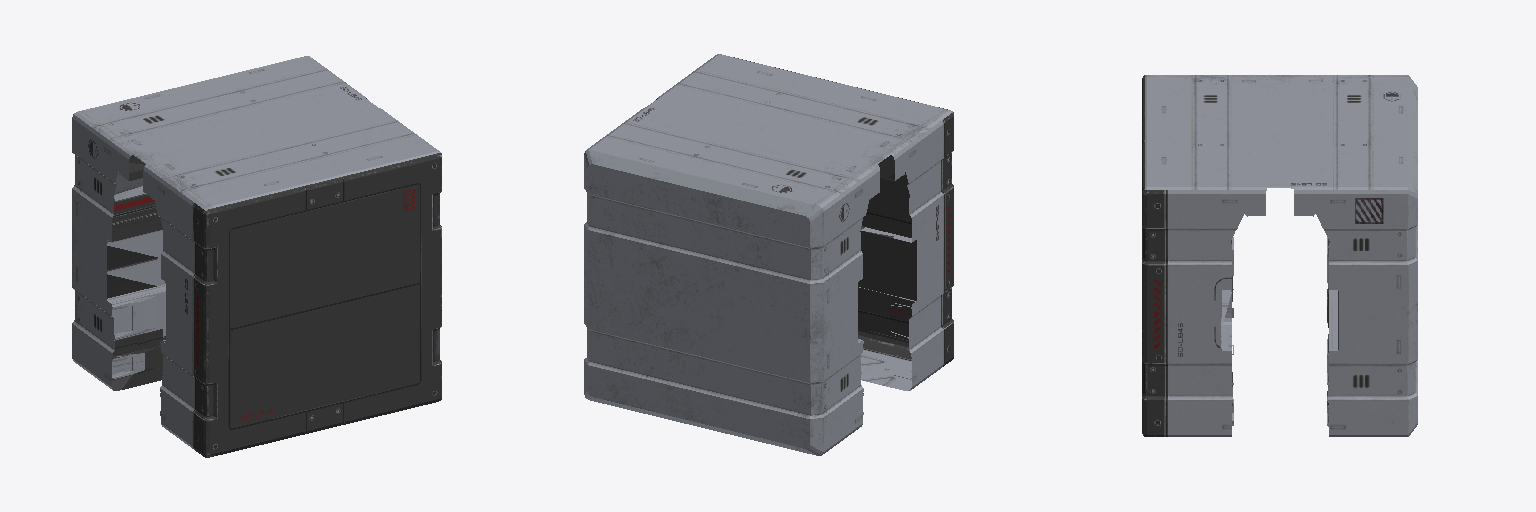
3 views of the same model, side by side, from view 1: azimuth 30°, elevation 25°; view 2: azimuth 150°, elevation 25°; view 3: azimuth 270°, elevation 25° (orthographic).
Parts seen in each view (by area): view 1: Crate_1__Default_0.001; view 2: Crate_1__Default_0.001; view 3: Crate_1__Default_0.001.
Boxes of the visible parts, x1,y1,x2,y2 form: Crate_1__Default_0.001: [72, 56, 441, 457]; Crate_1__Default_0.001: [584, 54, 953, 455]; Crate_1__Default_0.001: [1142, 75, 1417, 436].
Size of the model in its own units: 1 by 1 by 1.
Materials: 1 (1 with a texture image).